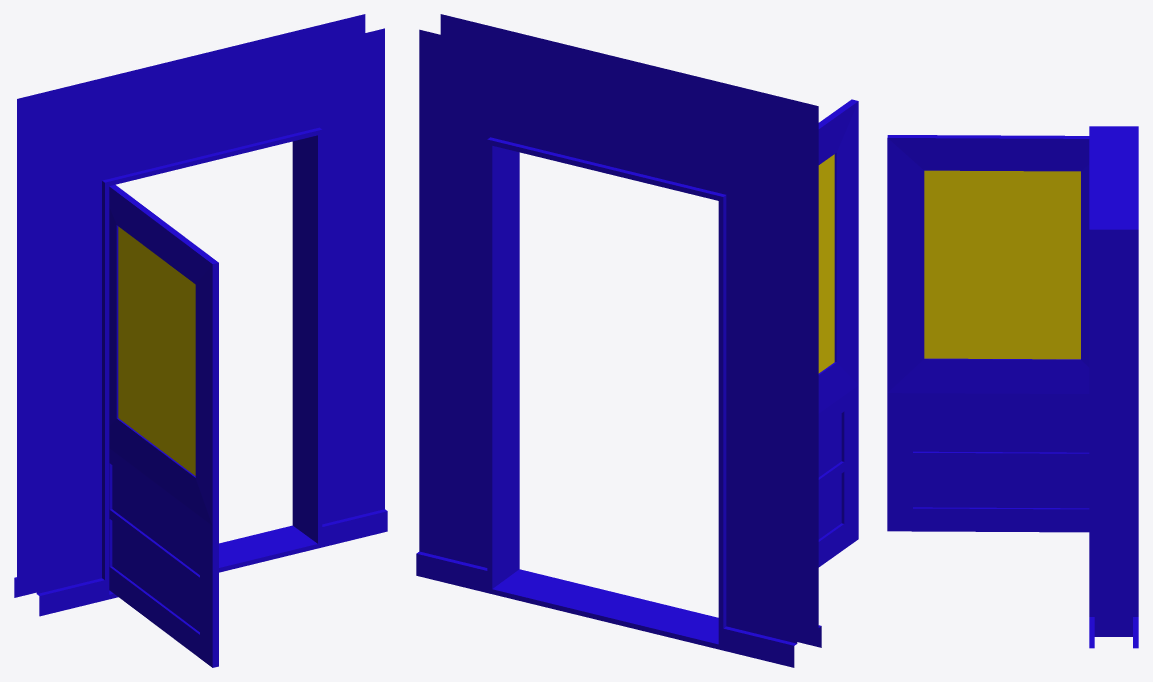
File: DoorCallCenter.fbx
3 renders of one model, left to right at view 1: azimuth 30°, elevation 25°; view 2: azimuth 150°, elevation 25°; view 3: azimuth 270°, elevation 25°, orthographic. The views are drawn at different scales.
Visible parts, largest first — view 1: Cube; view 2: Cube; view 3: Cube.
Part boxes in pixels (left/top/right/bottom): Cube: left=14, top=14, right=387, bottom=667; Cube: left=416, top=14, right=858, bottom=667; Cube: left=887, top=126, right=1138, bottom=648.
Bounding box in the file's own units: 275 × 200 × 128.
